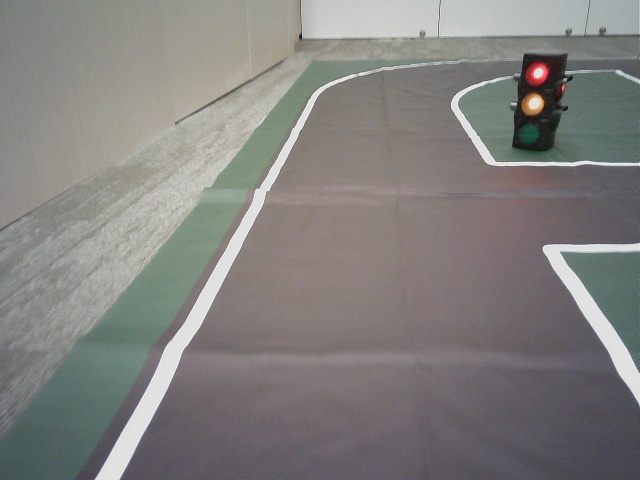red: (516, 55, 546, 144)
